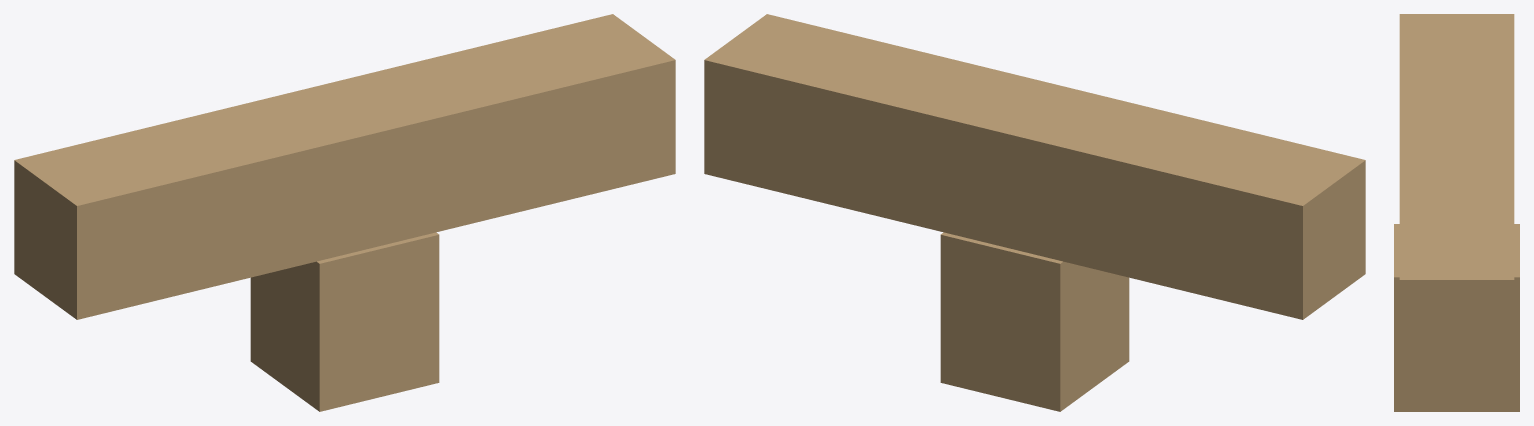
Rendered from prop-gimlet-cross-handle-gm1.fbx.
The picture shows the model from 3 angles, left to right: view 1: azimuth 30°, elevation 25°; view 2: azimuth 150°, elevation 25°; view 3: azimuth 270°, elevation 25°; orthographic projection. The views are drawn at different scales.
Visible parts, largest first — view 1: prop-gimlet-cross-handle-gm1; view 2: prop-gimlet-cross-handle-gm1; view 3: prop-gimlet-cross-handle-gm1.
Boxes of the visible parts, bbox=[...] form: prop-gimlet-cross-handle-gm1: bbox=[14, 14, 675, 411]; prop-gimlet-cross-handle-gm1: bbox=[704, 14, 1365, 411]; prop-gimlet-cross-handle-gm1: bbox=[1394, 14, 1519, 411].
Bounding box in the file's own units: 11 × 4.6 × 2.2.
